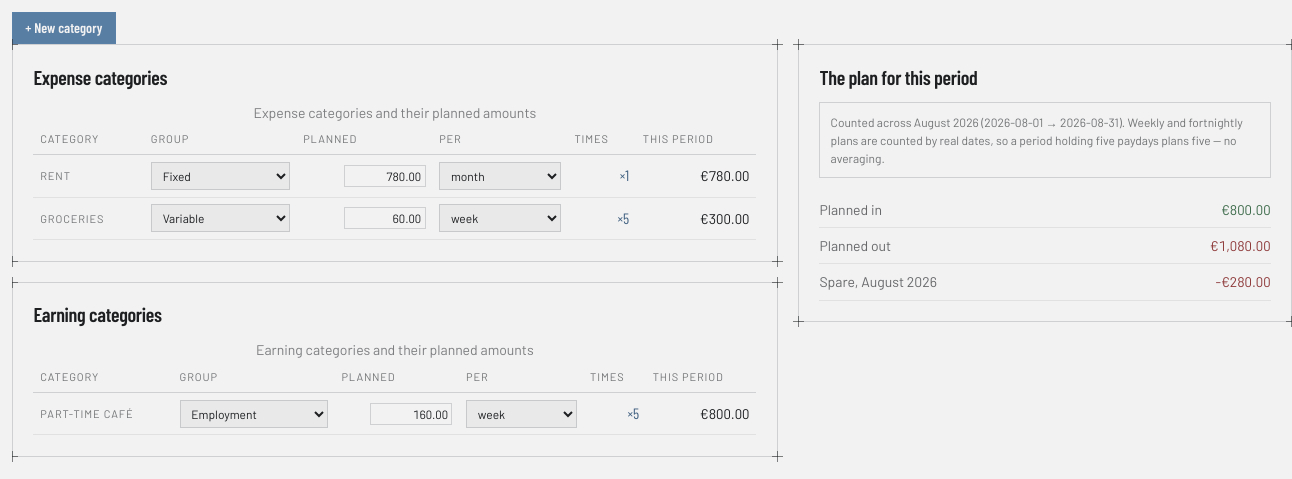
Test: CategoriesPage - editing the plan (BR-14) › recounts the occurrences when the frequency changes
Select "month" in the dropdown named "Frequency for Groceries". click: (500, 218)
box: [439, 204, 561, 232]
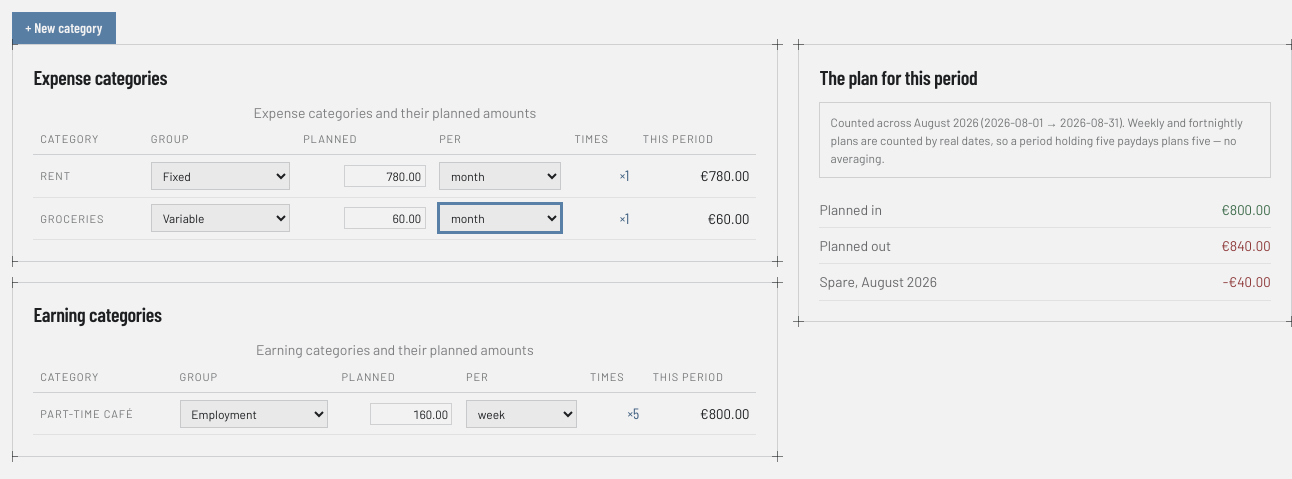
Expected: the text "×1" in the row of "Groceries" is shown, [568, 197, 636, 240]
